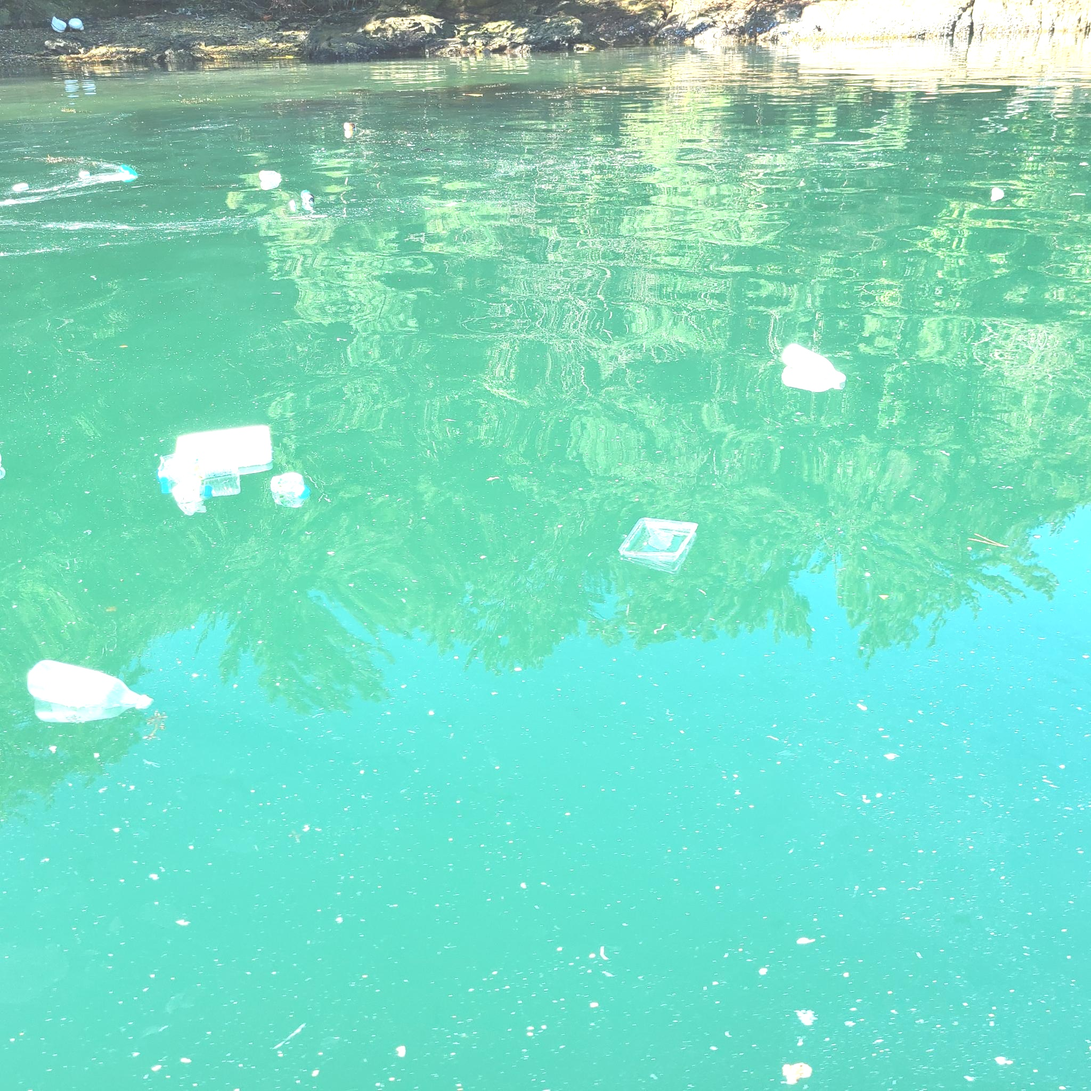sampah_terapung: (27, 660, 155, 710), (176, 426, 273, 475), (619, 518, 699, 563), (783, 344, 847, 384), (158, 454, 239, 484), (271, 473, 311, 509), (173, 476, 213, 504), (259, 171, 281, 182), (302, 190, 315, 203), (344, 123, 357, 130)
